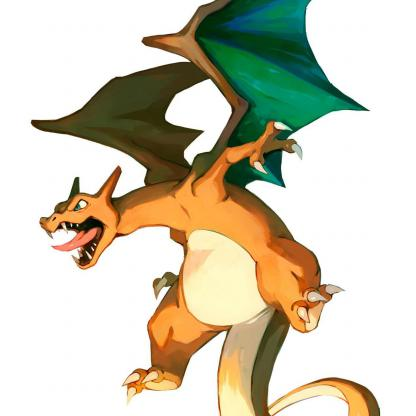Charizard: (1, 1, 416, 374)
